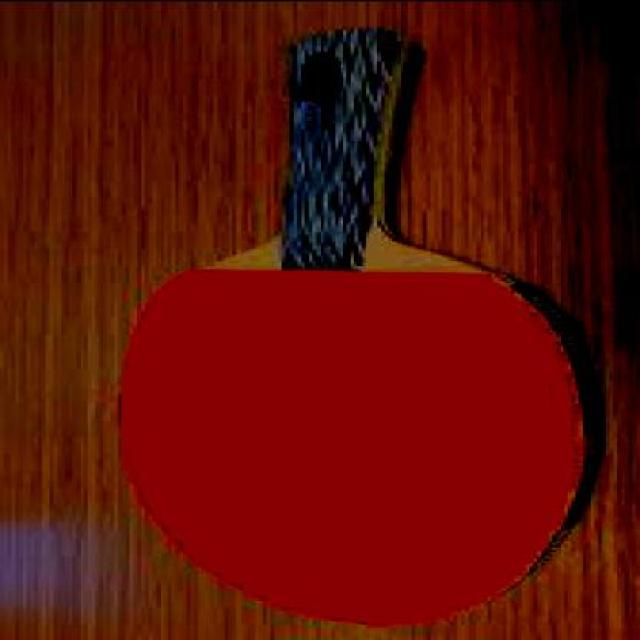table_tennis_racket: (118, 28, 605, 631)
